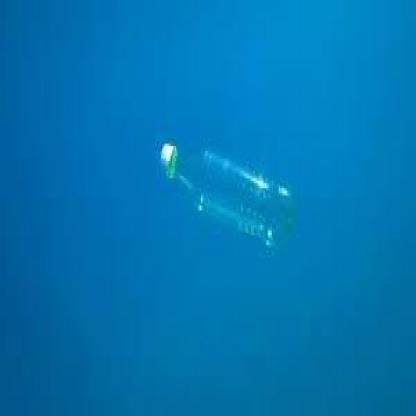pbottle: (151, 131, 302, 255)
